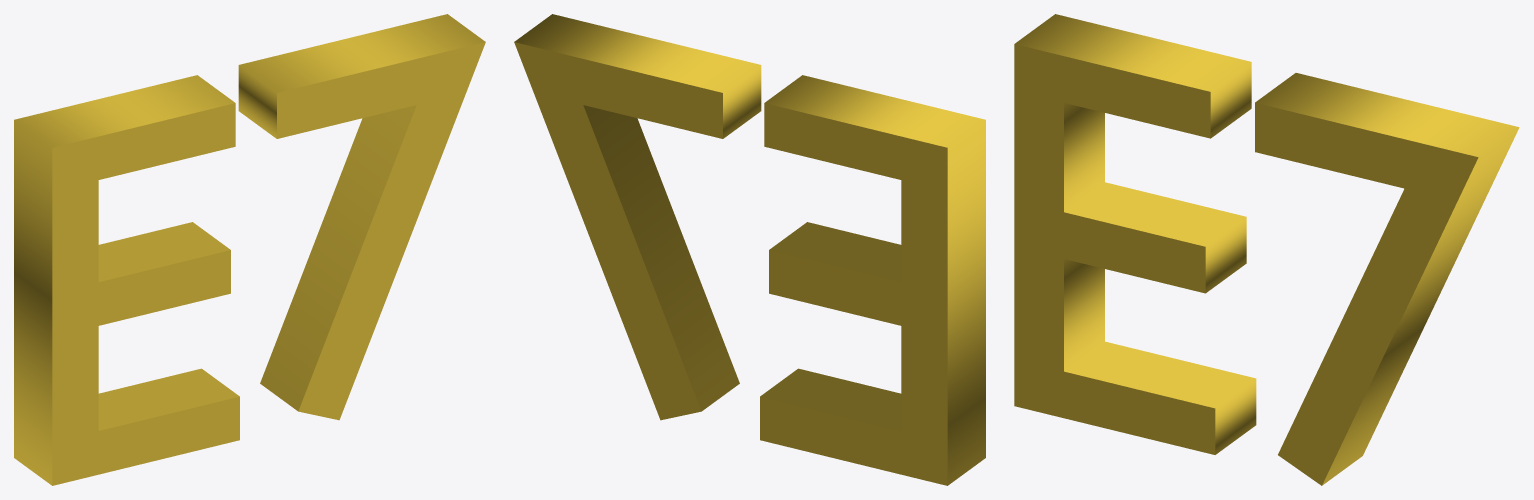
3 views of the same model, side by side, from view 1: azimuth 30°, elevation 25°; view 2: azimuth 150°, elevation 25°; view 3: azimuth 330°, elevation 25° (orthographic). The views are drawn at different scales.
Parts seen in each view (by area): view 1: 텍스트; view 2: 텍스트; view 3: 텍스트.
Part boxes in pixels (x1=…): 텍스트: x1=14, y1=14, x2=485, y2=485; 텍스트: x1=514, y1=14, x2=985, y2=485; 텍스트: x1=1014, y1=14, x2=1519, y2=485.
Bounding box in the file's own units: 91.5 × 69.1 × 14.
